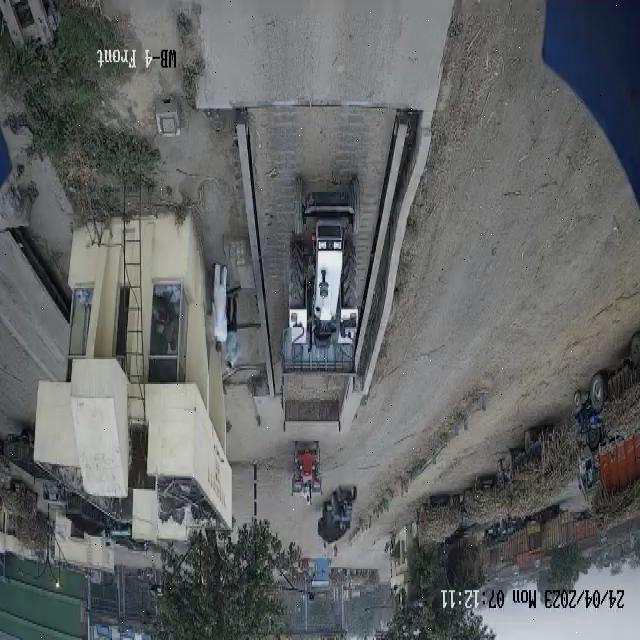Tratores - v5 YOLO V8L 2024-11-13: (287, 176, 361, 354), (570, 367, 608, 436), (292, 434, 319, 496), (326, 485, 361, 529)
